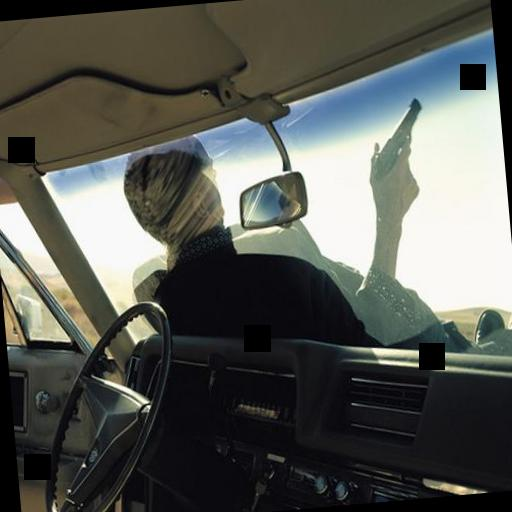Handgun: (361, 94, 431, 207)
